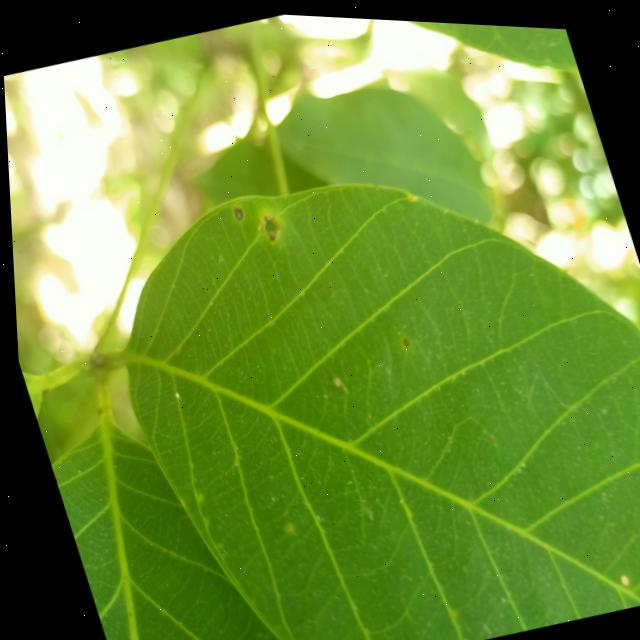Colletotrichum: (230, 202, 242, 218)
